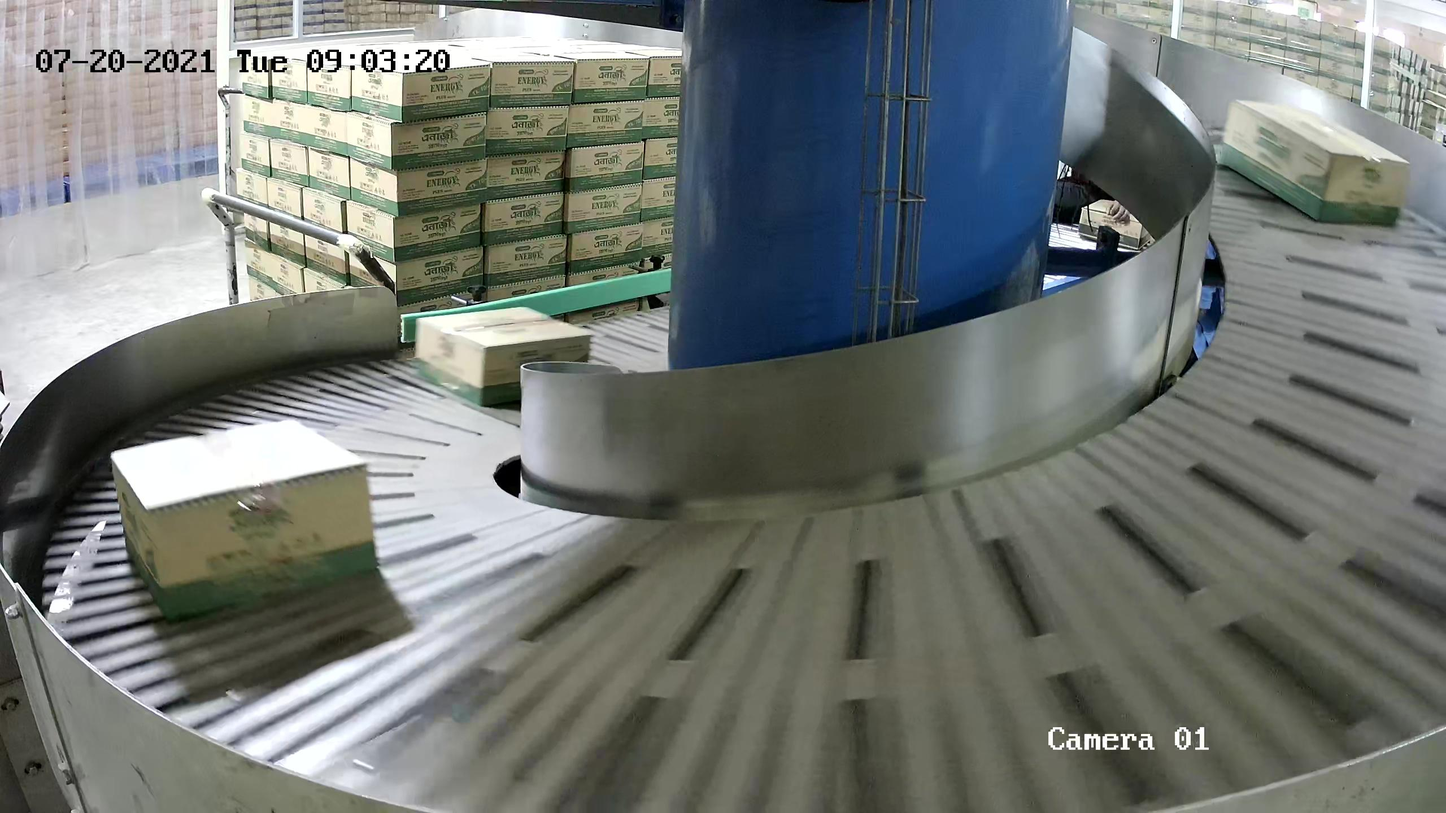Box: (108, 416, 380, 623), (1216, 98, 1412, 228), (414, 303, 592, 409)
